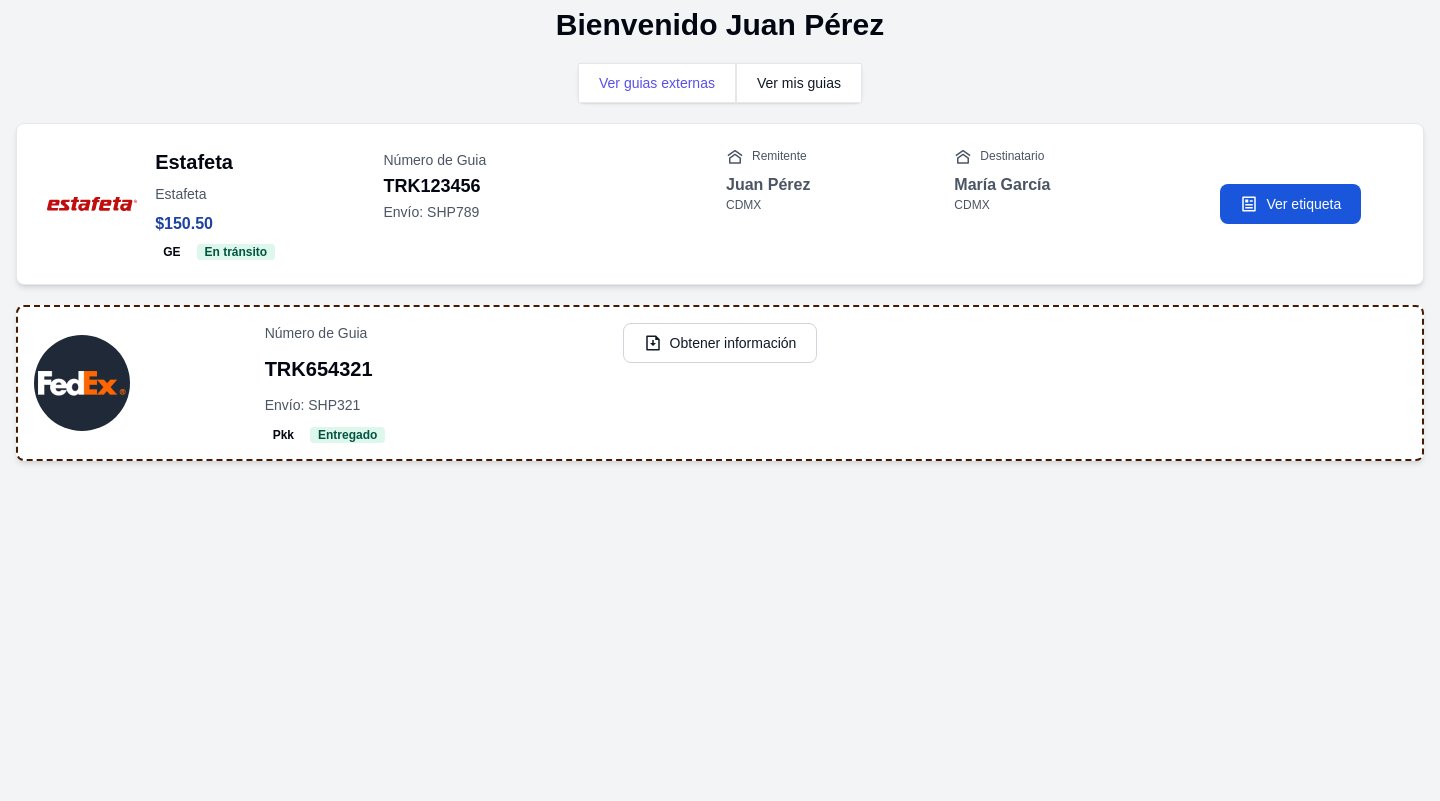
Order › When switching to DB source › Then should render failed DB record with kraftId and failure message
Click the button "Ver mis guias" at (799, 83), box [736, 63, 862, 103]
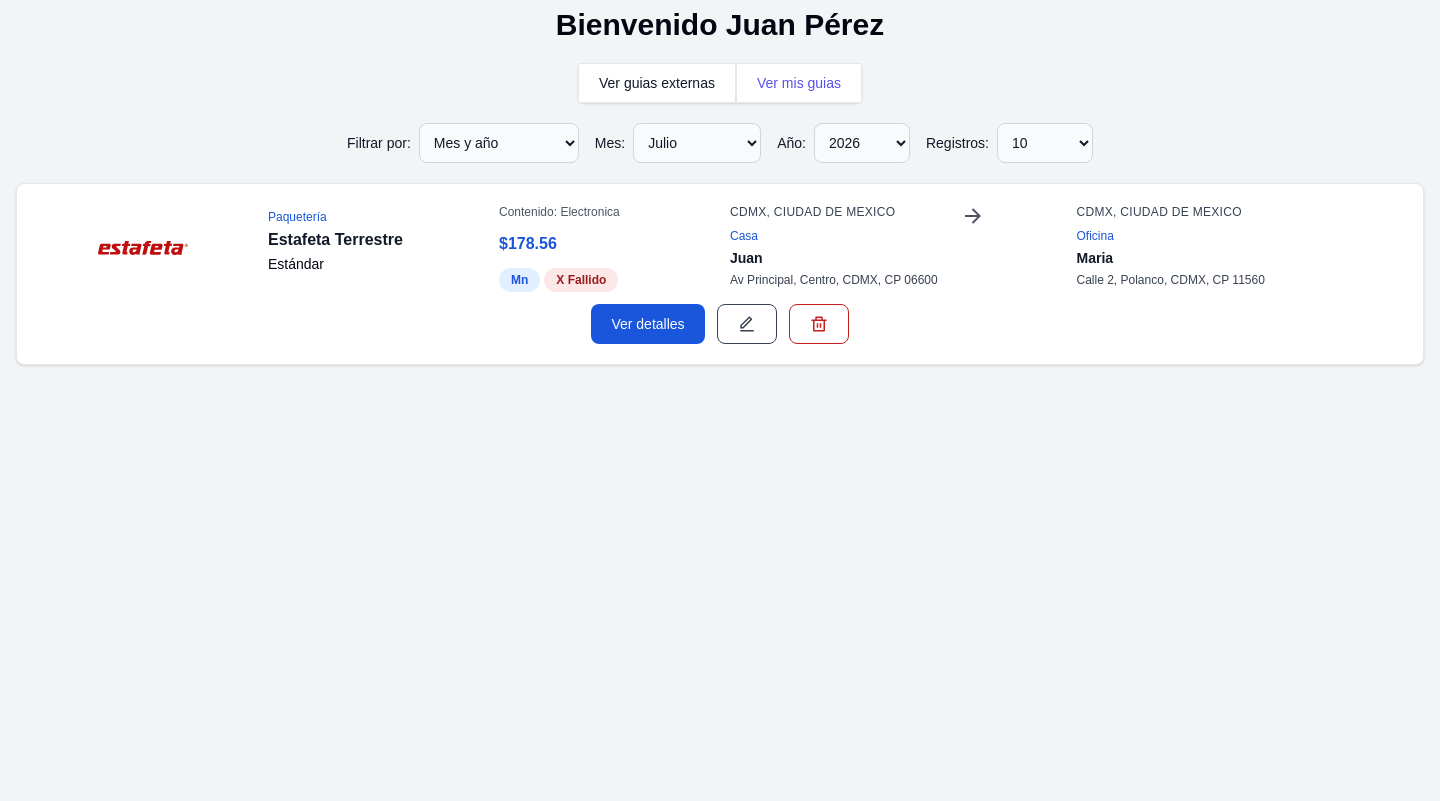
Now the button with test id "guide-db-details-button" is shown
Click the button with test id "guide-db-details-button" at (648, 324), box [591, 304, 705, 344]
(page scrolled)
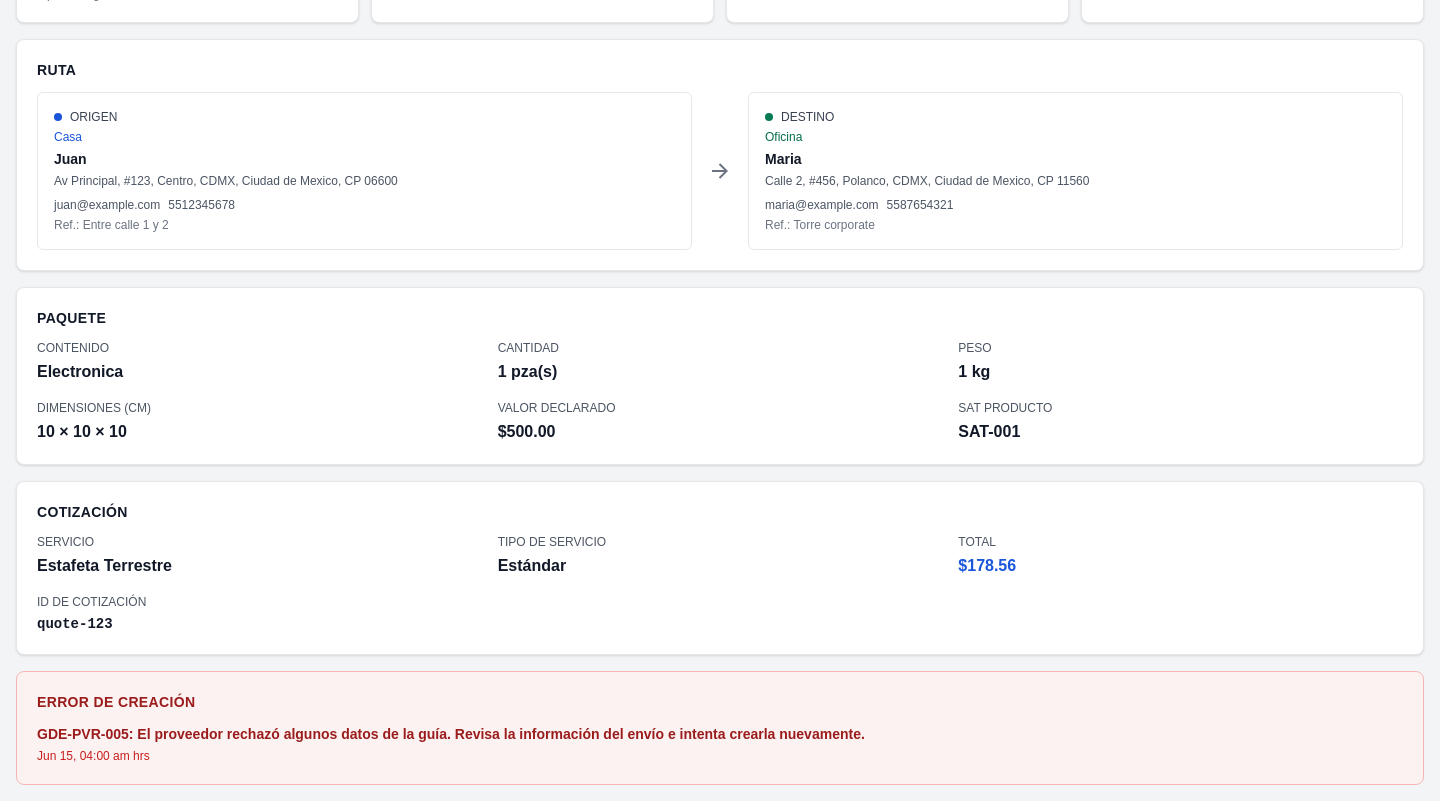
Now the text "El proveedor rechazó algunos datos de la guía" is shown, box [37, 726, 865, 742]
